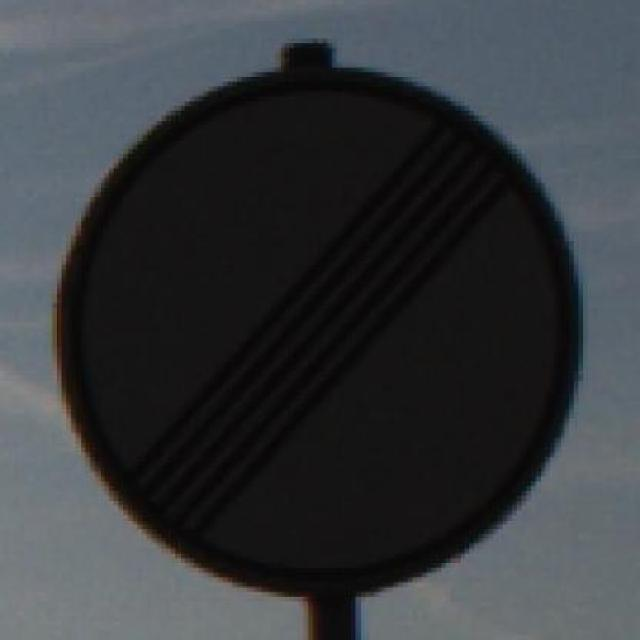End of all speed and passing limits: (38, 34, 612, 601)
